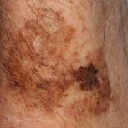Melanoma: (5, 16, 75, 104), (78, 64, 98, 89)
